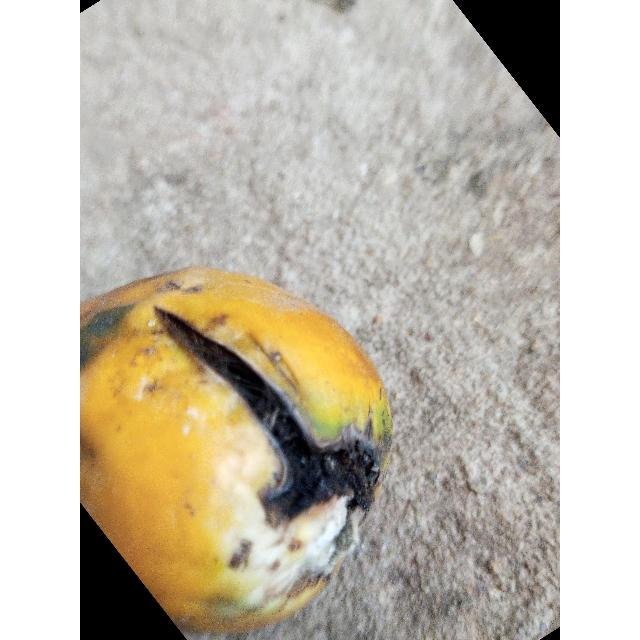damaged: (80, 267, 392, 633)
